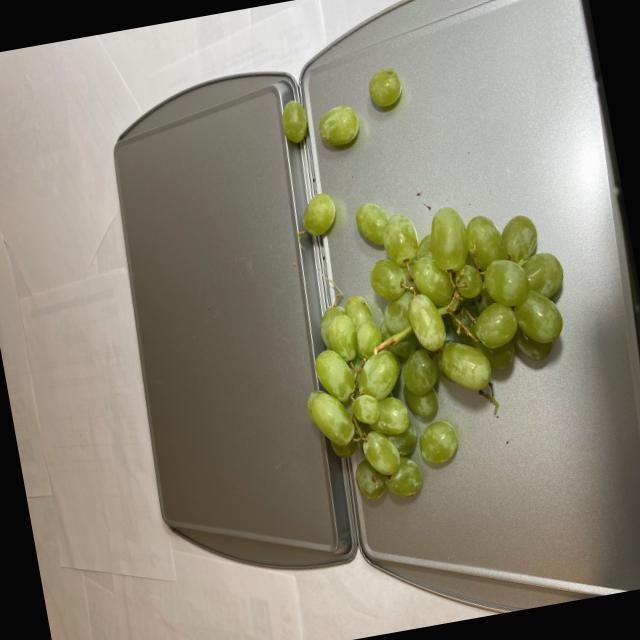grapes: (272, 154, 600, 515), (271, 61, 409, 160)
